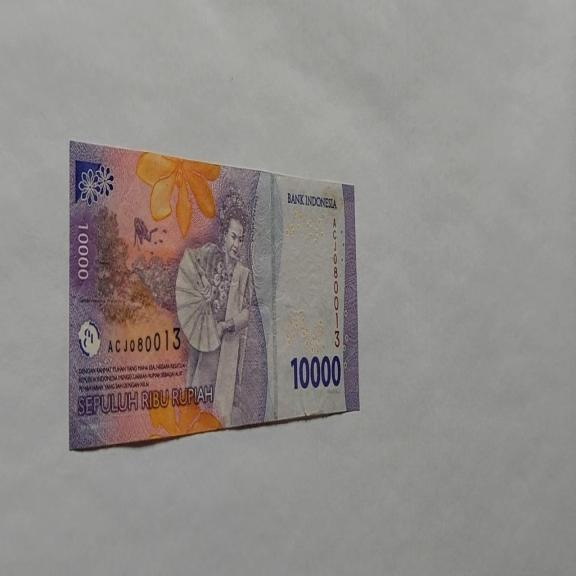Kertas: (68, 138, 360, 452)
